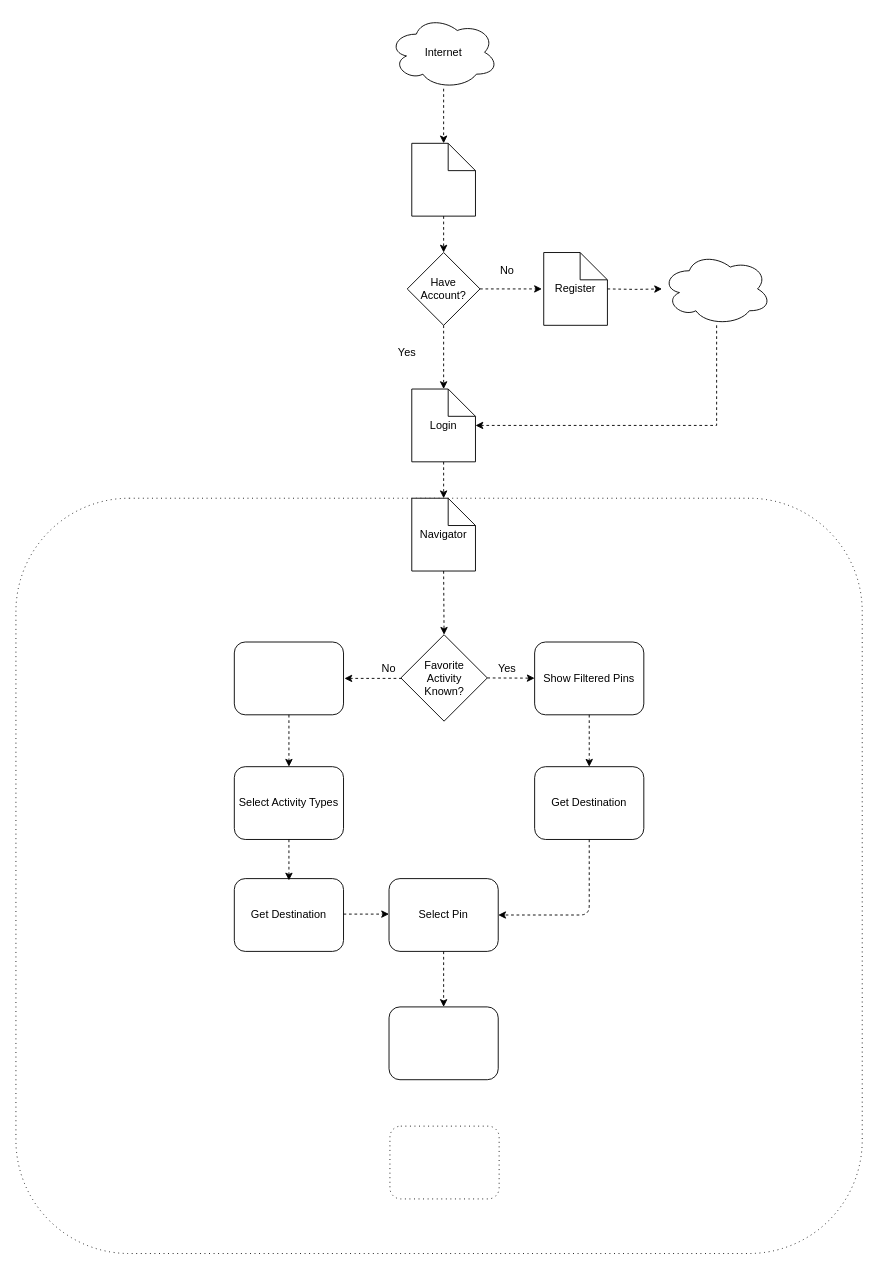
This 878x1269 diagram has some shape labels left out. The shapes that lost their labels are listed below. From the top down, each one's centre as x and y in pixels, then its label:
At point 443,179: "Sign In".
At point 716,288: "Email Activation".
At point 288,678: "Show All Pins".
At point 443,1043: "Download Maps".
At point 444,1162: "Direct To Pin?".
